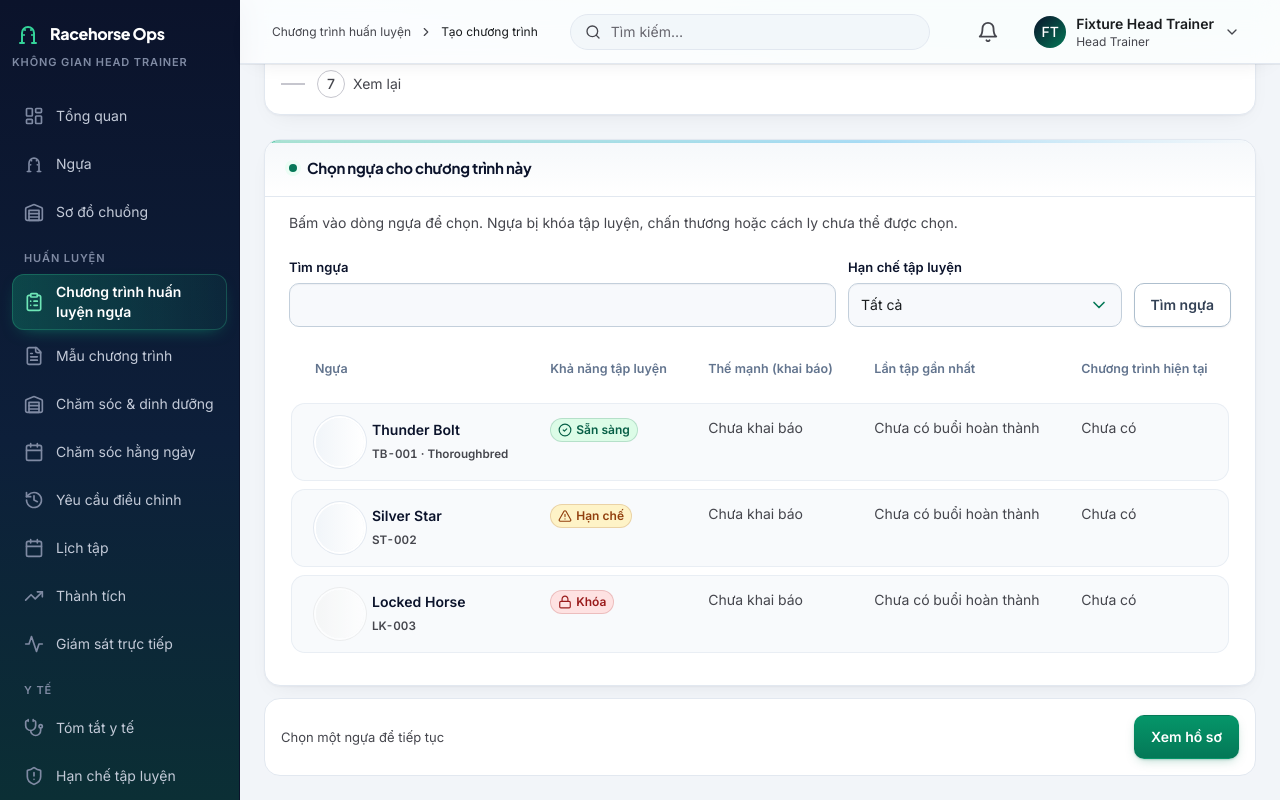
CORE-022 UI + production router + real transport with HTTP fixtures (not live BE) › selects an eligible horse from anywhere in its row and leaves a locked row unchanged
(page scrolled)
Click the cell "Khóa".
click(609, 614)  # box [530, 575, 688, 653]
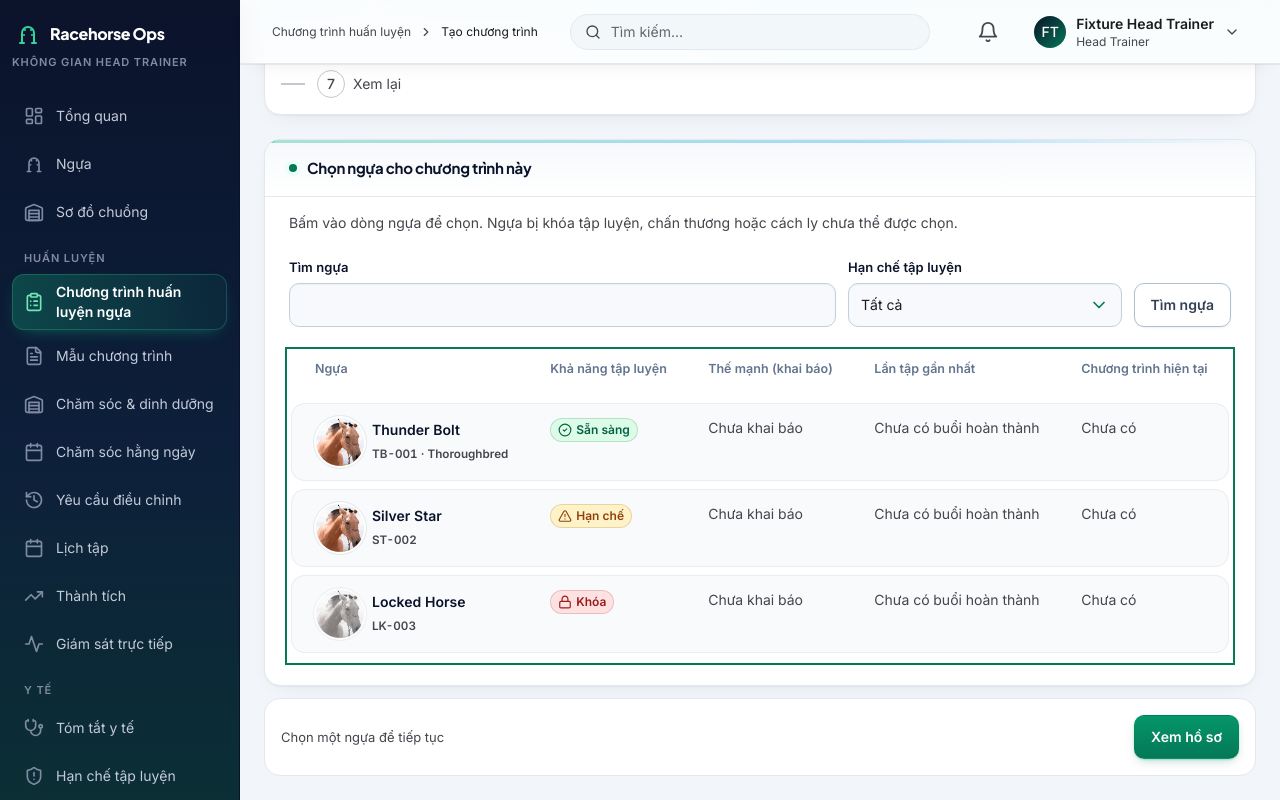
Expected: the radio button with aria-label "Chọn Locked Horse (" is not checked, [372, 592, 466, 636]
Click the cell "Sẵn sàng".
click(609, 442)  # box [530, 403, 688, 481]
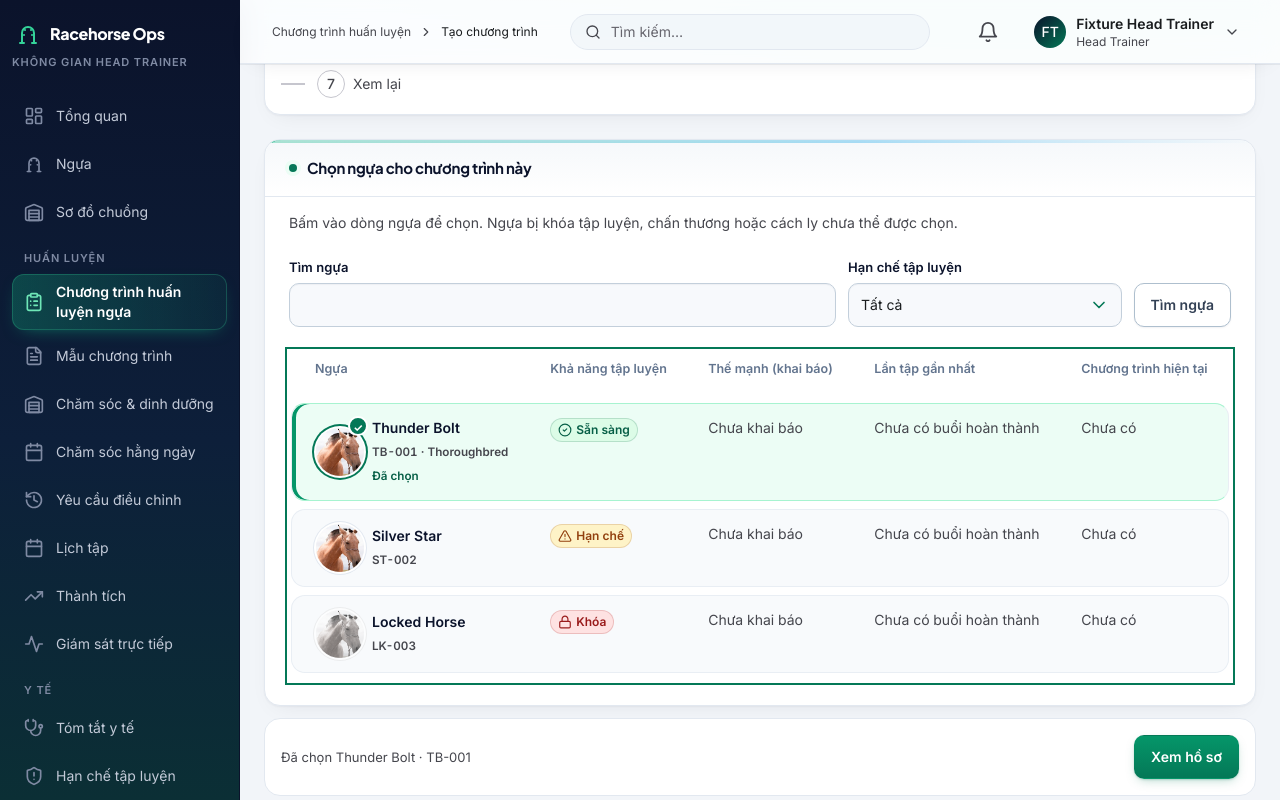
Now the radio button with aria-label "Chọn Thunder Bolt (" is checked, box [372, 418, 508, 486]
